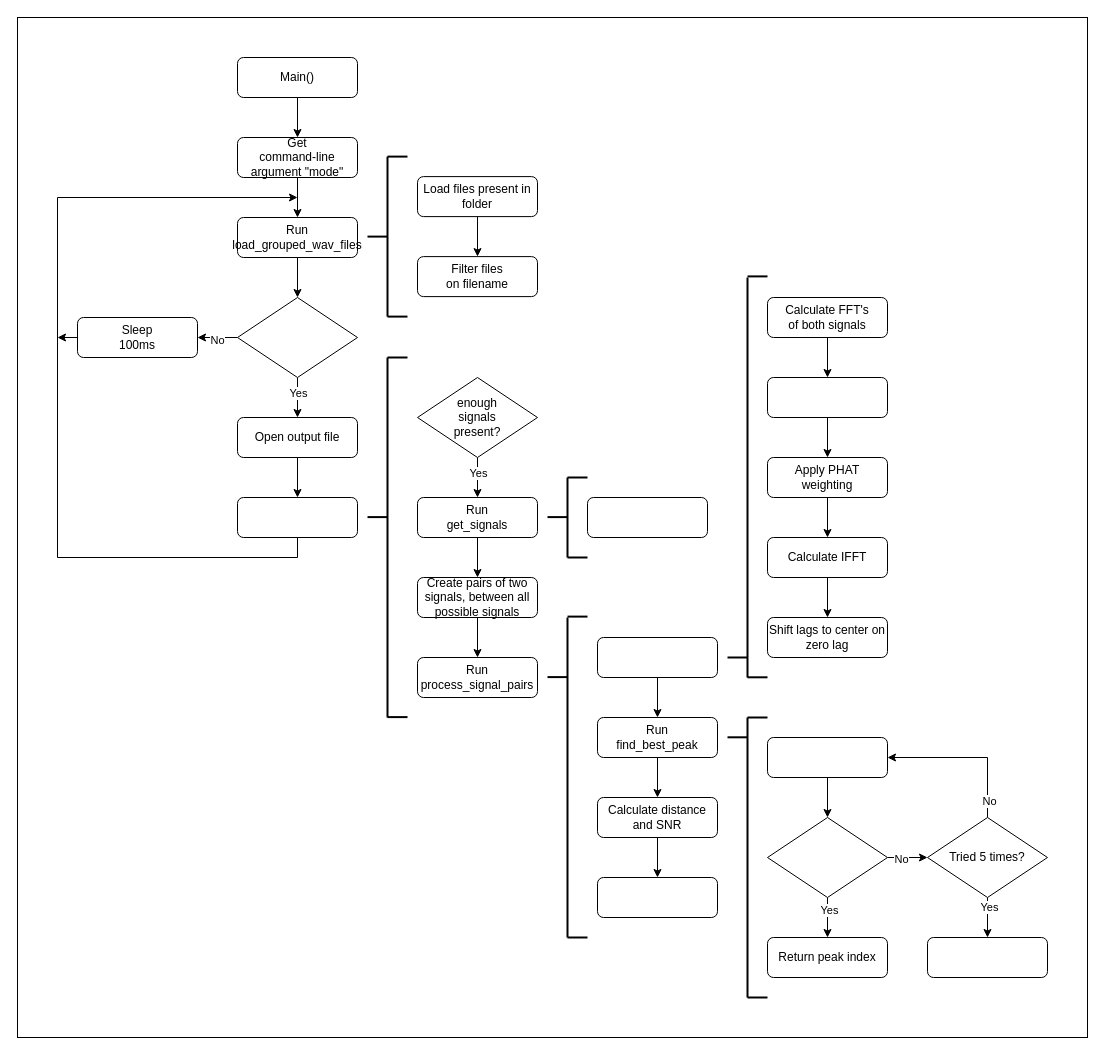
This 1105x1055 diagram has some shape labels left out. The box of each missing label's shape, as (x1, y1, x2, y2) in pixels:
any files present?: (236, 296, 358, 378)
Extract signals from files: (586, 496, 708, 538)
Get highest value in list: (766, 736, 888, 778)
Multiply FFT's: (766, 376, 888, 418)
Peak valid?: (766, 816, 888, 898)
Return 0 lag: (926, 936, 1048, 978)
Run calculate_signal_pairs: (236, 496, 358, 538)
Run compute_gcc_phat: (596, 636, 718, 678)
Save results in output file: (596, 876, 718, 918)
